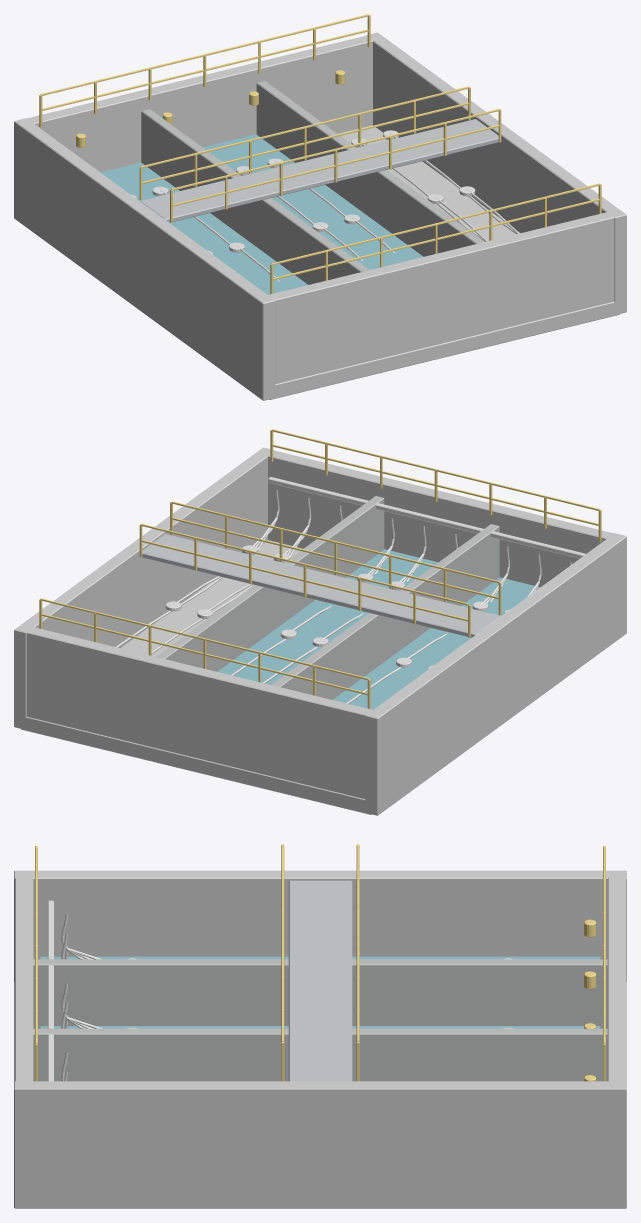
3 renders of one model, top to bottom at view 1: azimuth 30°, elevation 25°; view 2: azimuth 150°, elevation 25°; view 3: azimuth 270°, elevation 25°, orthographic. The views are drawn at different scales.
Visible parts, largest first — view 1: render-batch-3, render-batch-1, render-batch-5, render-batch-0, render-batch-2, render-batch-4; view 2: render-batch-3, render-batch-1, render-batch-5, render-batch-0, render-batch-2, render-batch-4; view 3: render-batch-3, render-batch-1, render-batch-2, render-batch-5, render-batch-0, render-batch-4.
Part boxes in pixels (left/top/right/bottom): render-batch-3: left=14, top=32, right=626, bottom=400; render-batch-1: left=141, top=81, right=484, bottom=284; render-batch-5: left=39, top=14, right=601, bottom=294; render-batch-0: left=100, top=134, right=423, bottom=294; render-batch-2: left=140, top=119, right=498, bottom=222; render-batch-4: left=131, top=130, right=519, bottom=281; render-batch-3: left=14, top=447, right=626, bottom=815; render-batch-1: left=156, top=496, right=499, bottom=699; render-batch-5: left=39, top=429, right=601, bottom=709; render-batch-0: left=217, top=549, right=540, bottom=709; render-batch-2: left=142, top=534, right=500, bottom=637; render-batch-4: left=116, top=477, right=585, bottom=703; render-batch-3: left=14, top=870, right=626, bottom=1208; render-batch-1: left=33, top=959, right=607, bottom=1081; render-batch-2: left=288, top=880, right=352, bottom=1081; render-batch-5: left=35, top=844, right=605, bottom=1081; render-batch-0: left=40, top=956, right=600, bottom=1028; render-batch-4: left=47, top=900, right=513, bottom=1081.
Bounding box in the file's own units: 12.65 × 4.27 × 15.
